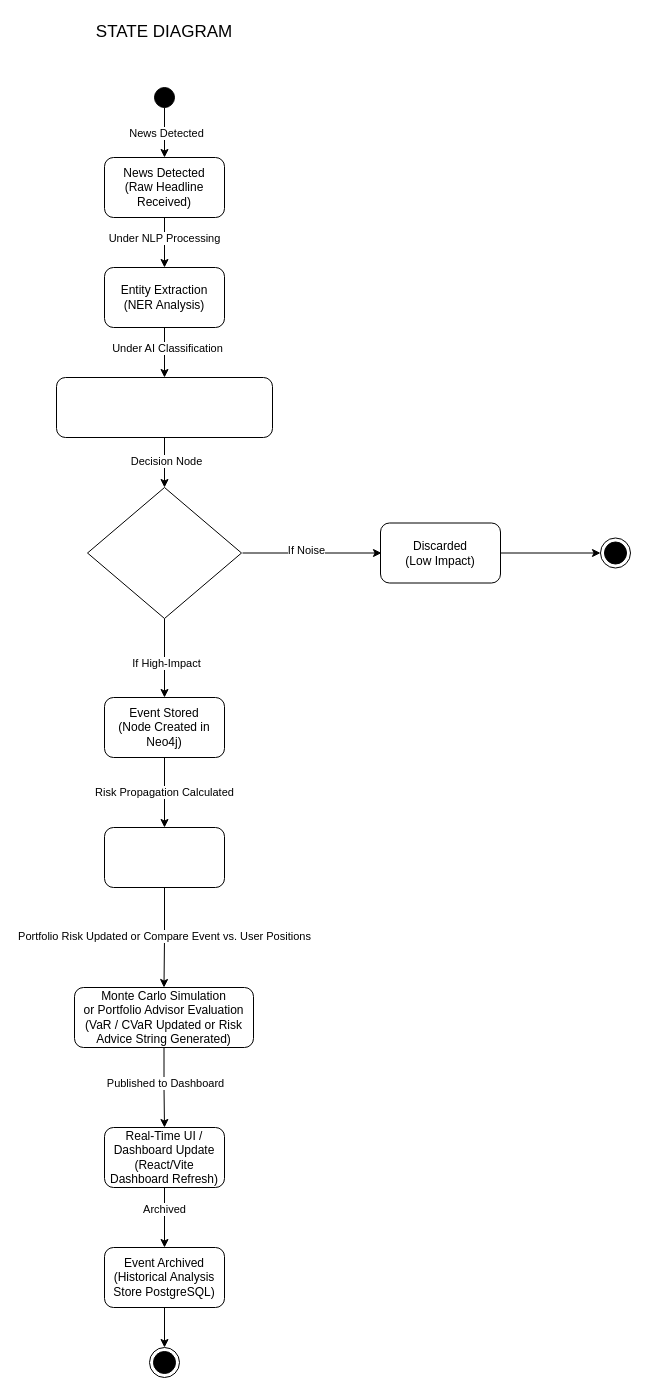
This 648x1395 diagram has some shape labels left out. The shapes that lost their labels are listed below. From the top down, each one's box as (x1, y1, x2, y2) in pixels, then its label:
(56, 376, 272, 438): LLM Classification Butterfly Event? or Causal Impact Classification?
(86, 486, 242, 618): > Noise? > High-Impact Event?
(104, 826, 224, 888): Causal Graph Traversal (Industry + Company Mapping)
